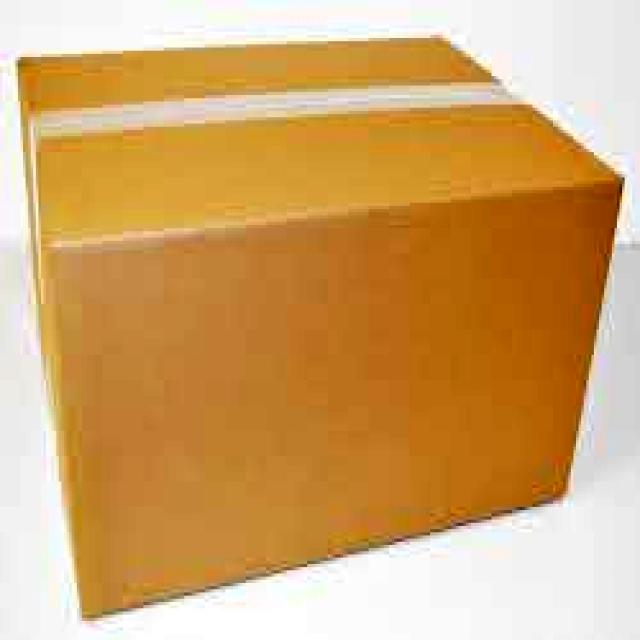Cardboard: (20, 38, 625, 616)
